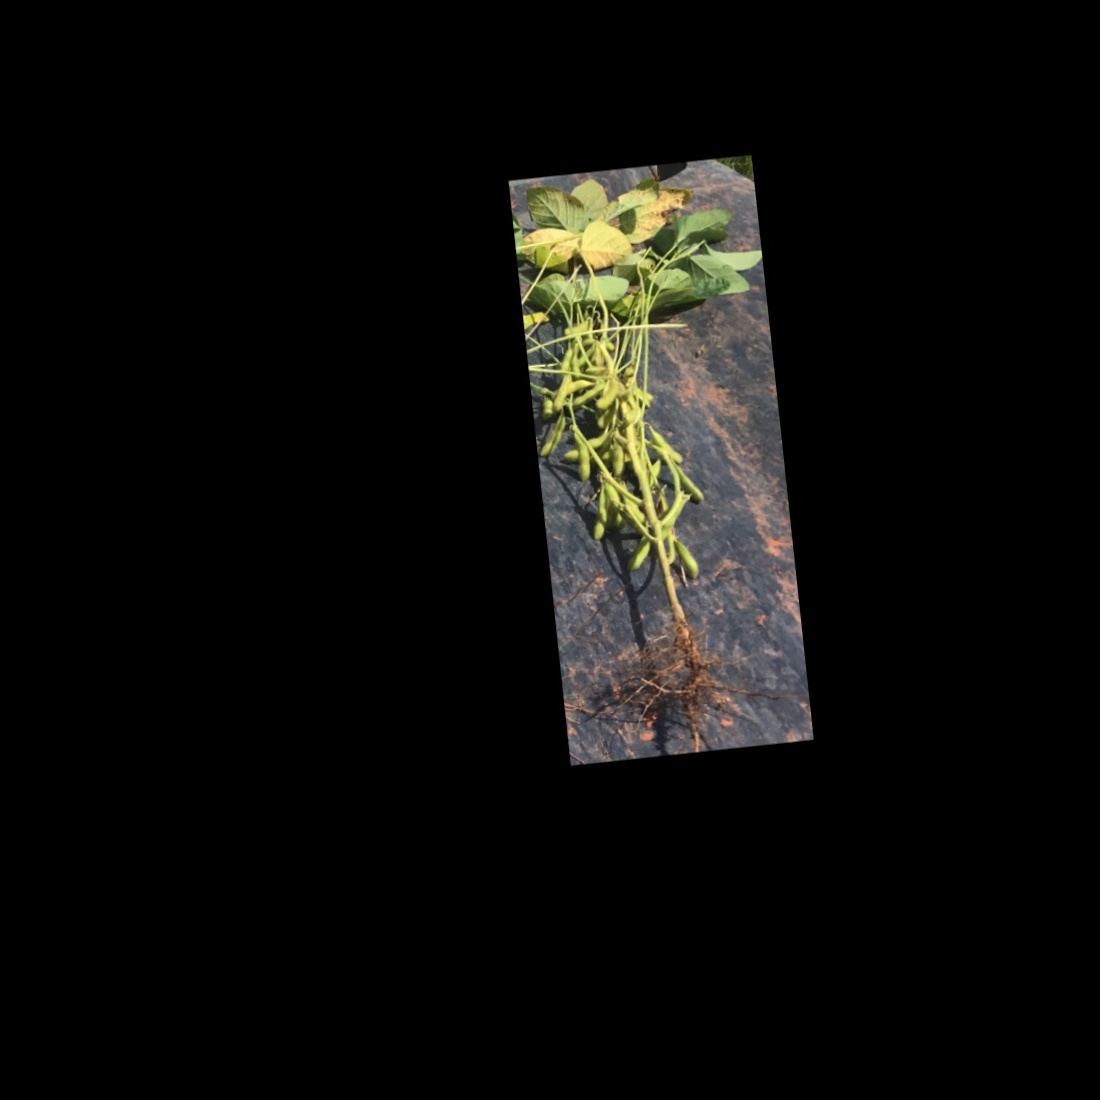pod: (533, 412, 575, 460), (669, 532, 702, 586), (649, 422, 685, 467), (675, 461, 708, 506), (567, 432, 594, 485), (545, 370, 571, 413)
soy: (510, 162, 802, 744)
